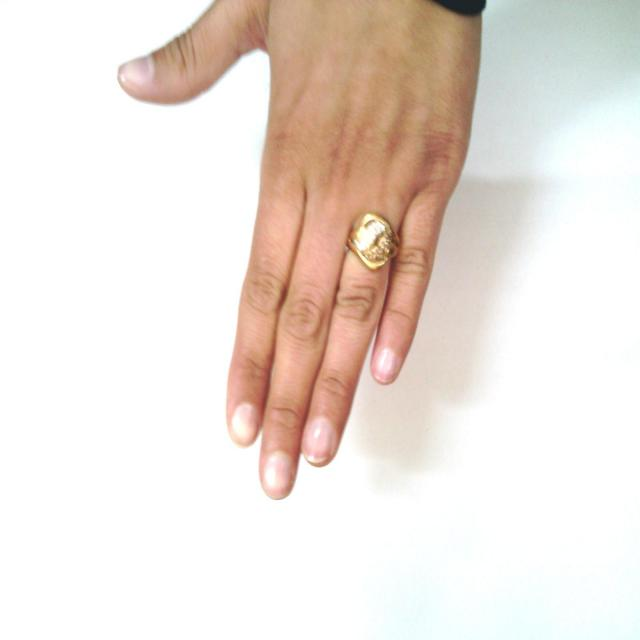others: (112, 1, 520, 506)
